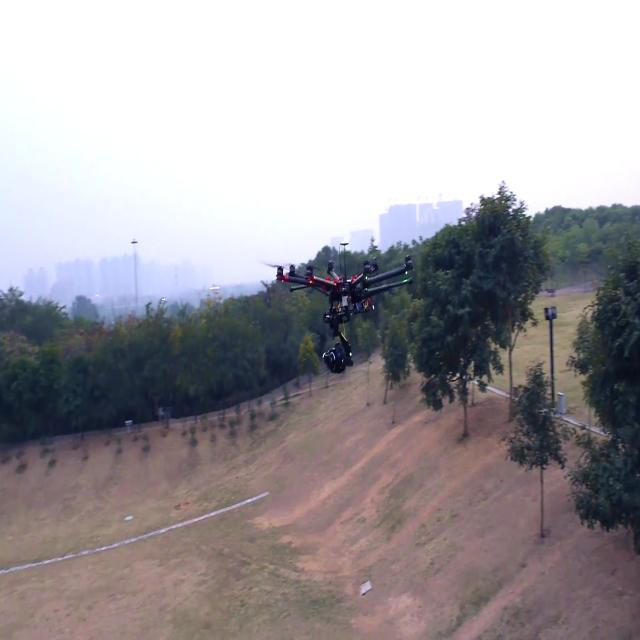drone: (252, 211, 420, 393)
